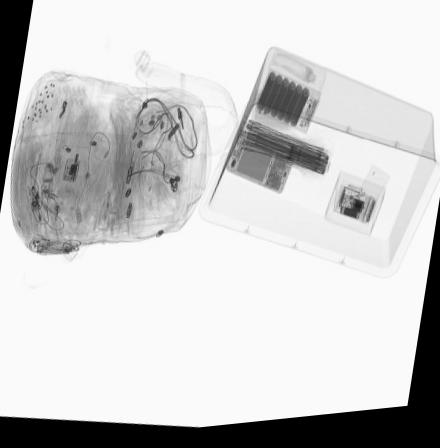Powerbank: (253, 72, 313, 134)
